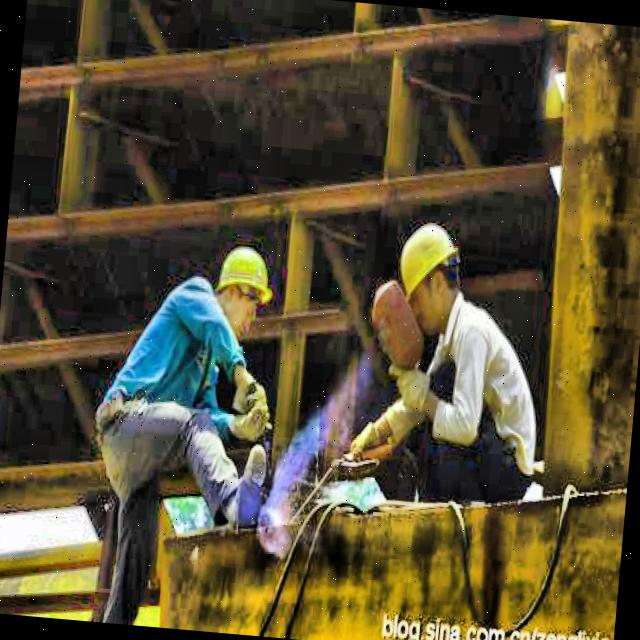helmet: (384, 214, 476, 342), (206, 238, 278, 345)
